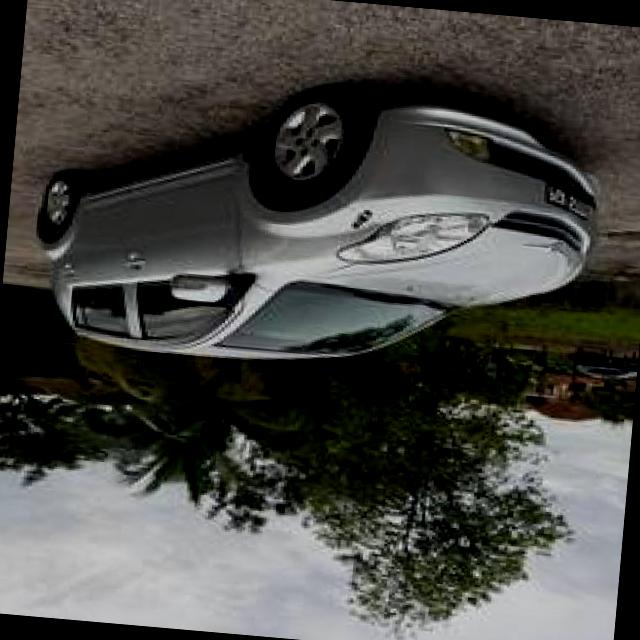PeroduaMyvi: (20, 61, 610, 393)
